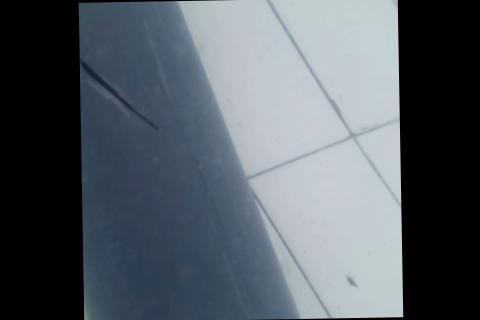keretakan: (79, 53, 162, 134)
